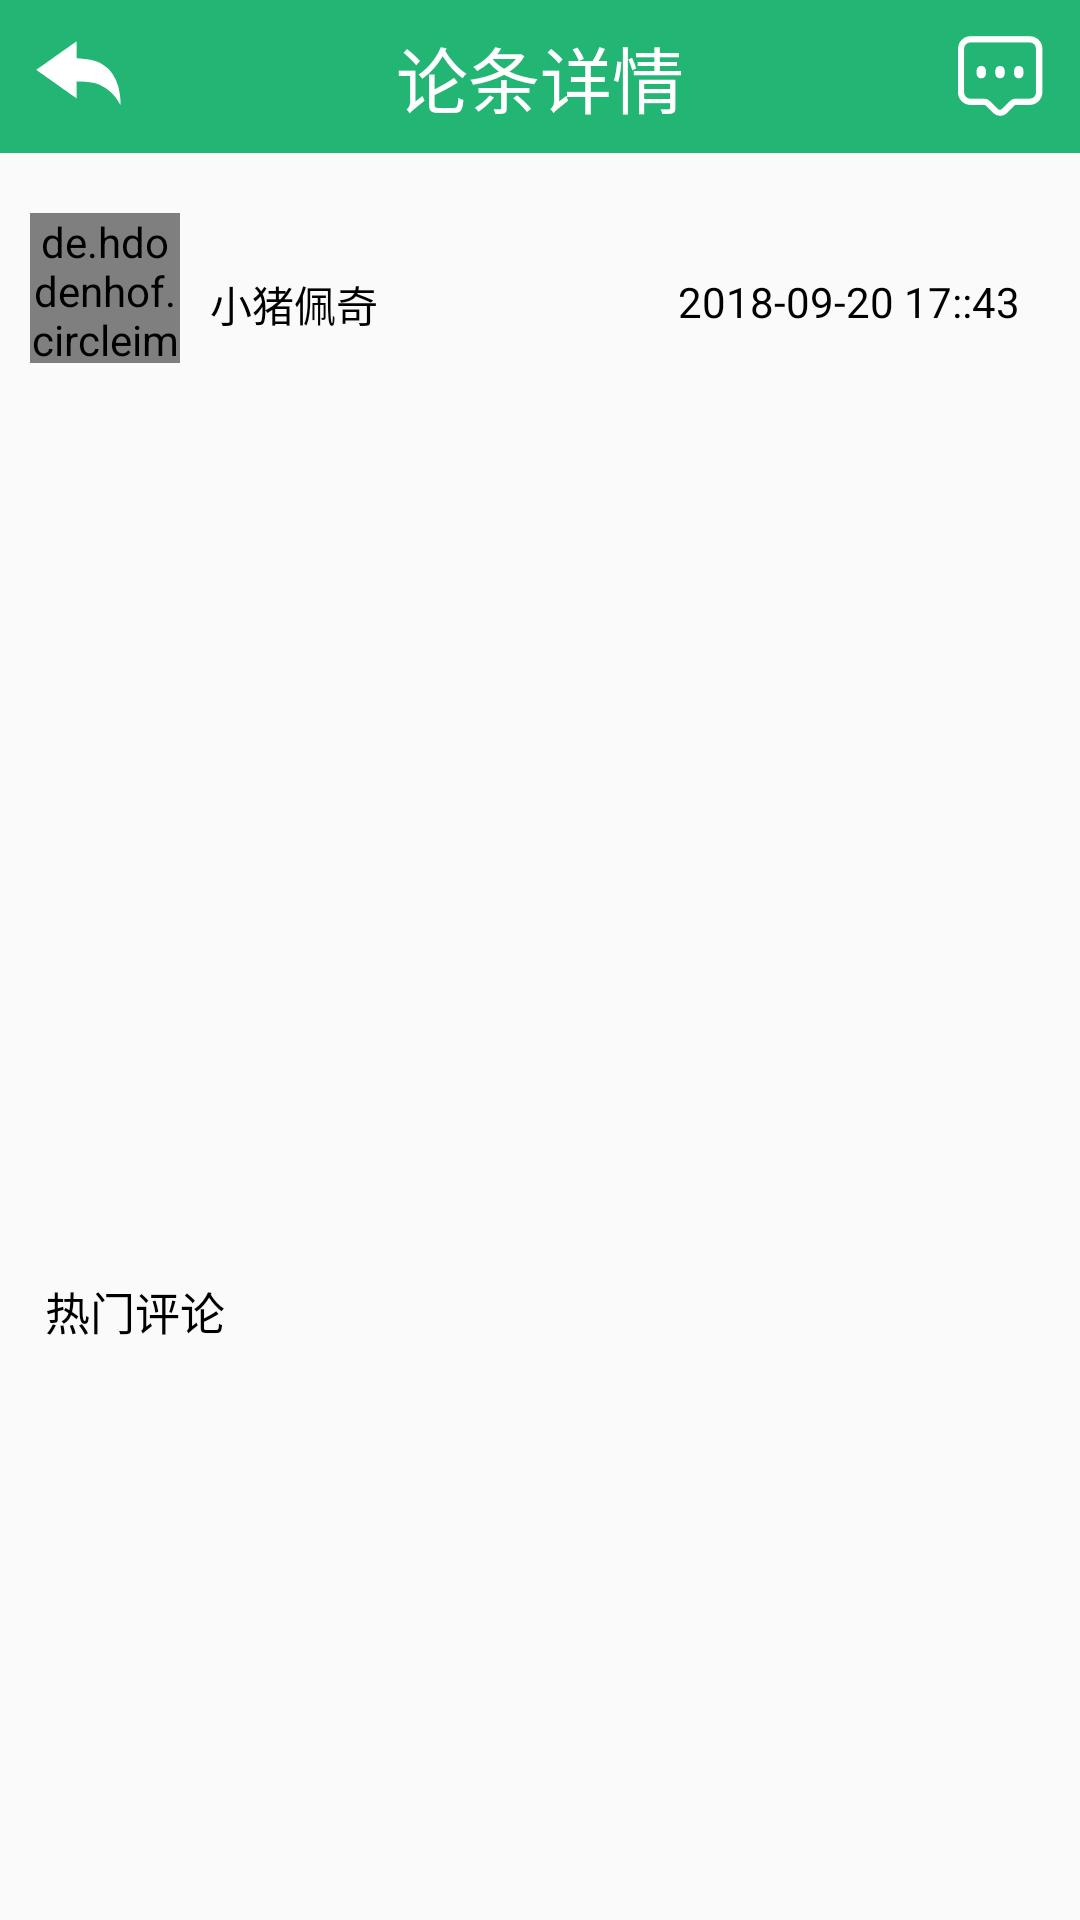

Screen size 1080x1920. Icon name, then its center in pixels as (x=x, y=y):
comment: (x=1000, y=76)
